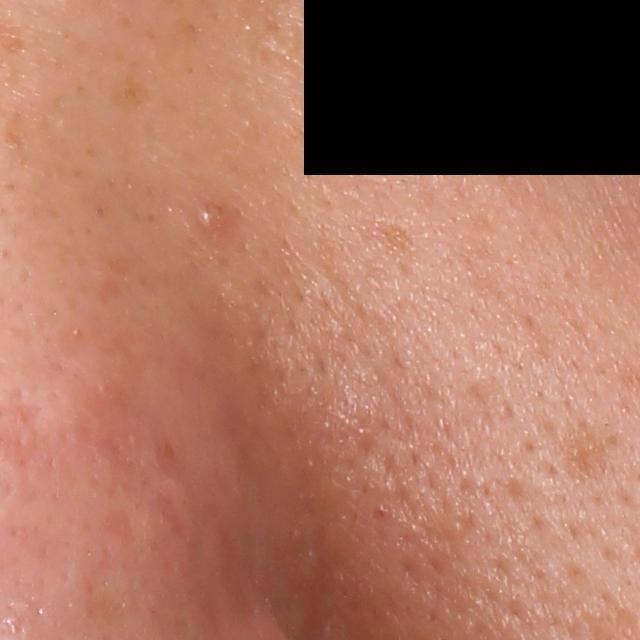melasma: (369, 216, 417, 257)
